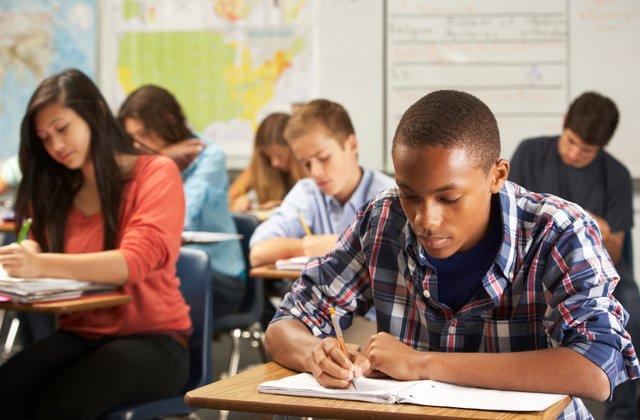student: (290, 85, 612, 413), (1, 63, 194, 362), (242, 79, 388, 277), (506, 77, 639, 279)
